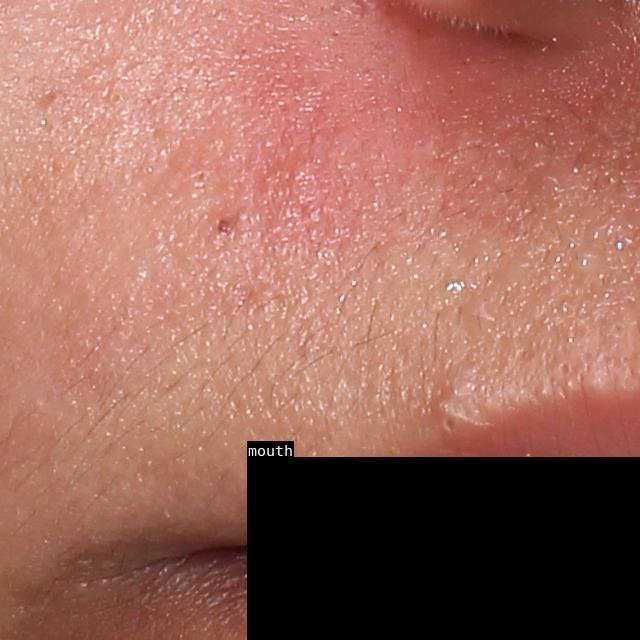comedo: (106, 90, 125, 106)
